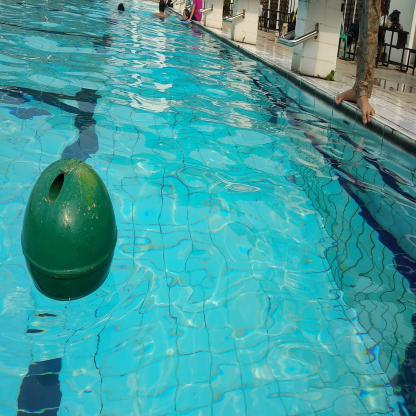green_buoy: (18, 159, 119, 308)
